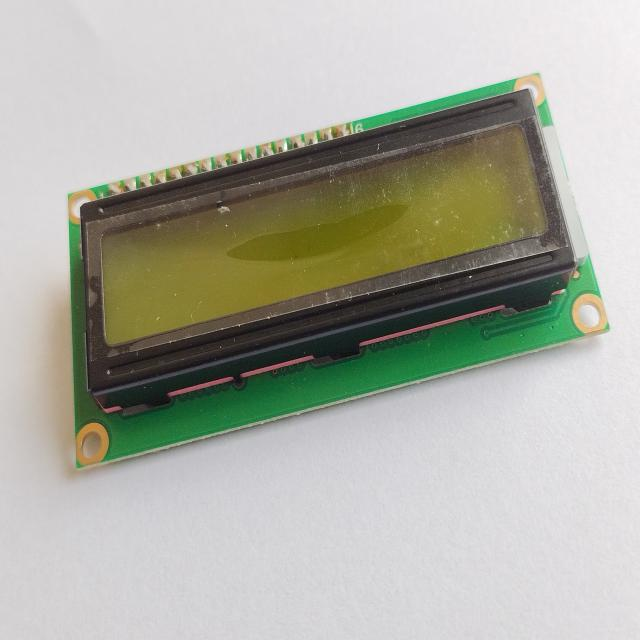lcd: (57, 60, 615, 494)
